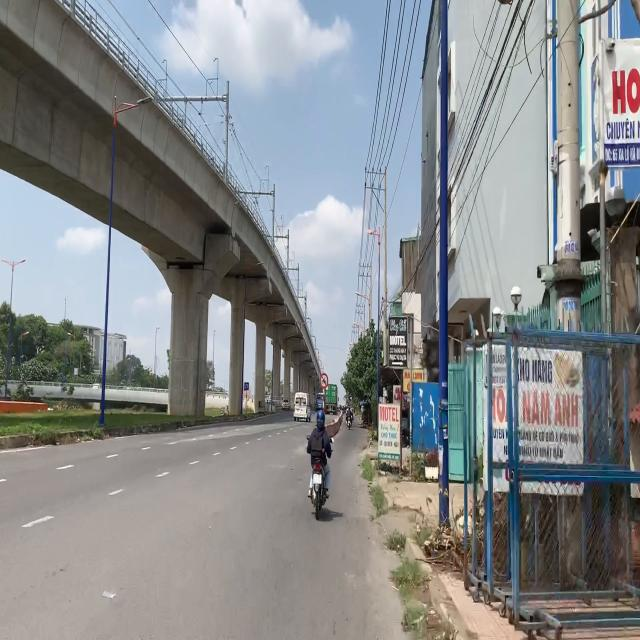Cam con lai: (320, 372, 328, 389)
Chi dan: (244, 382, 249, 391)
